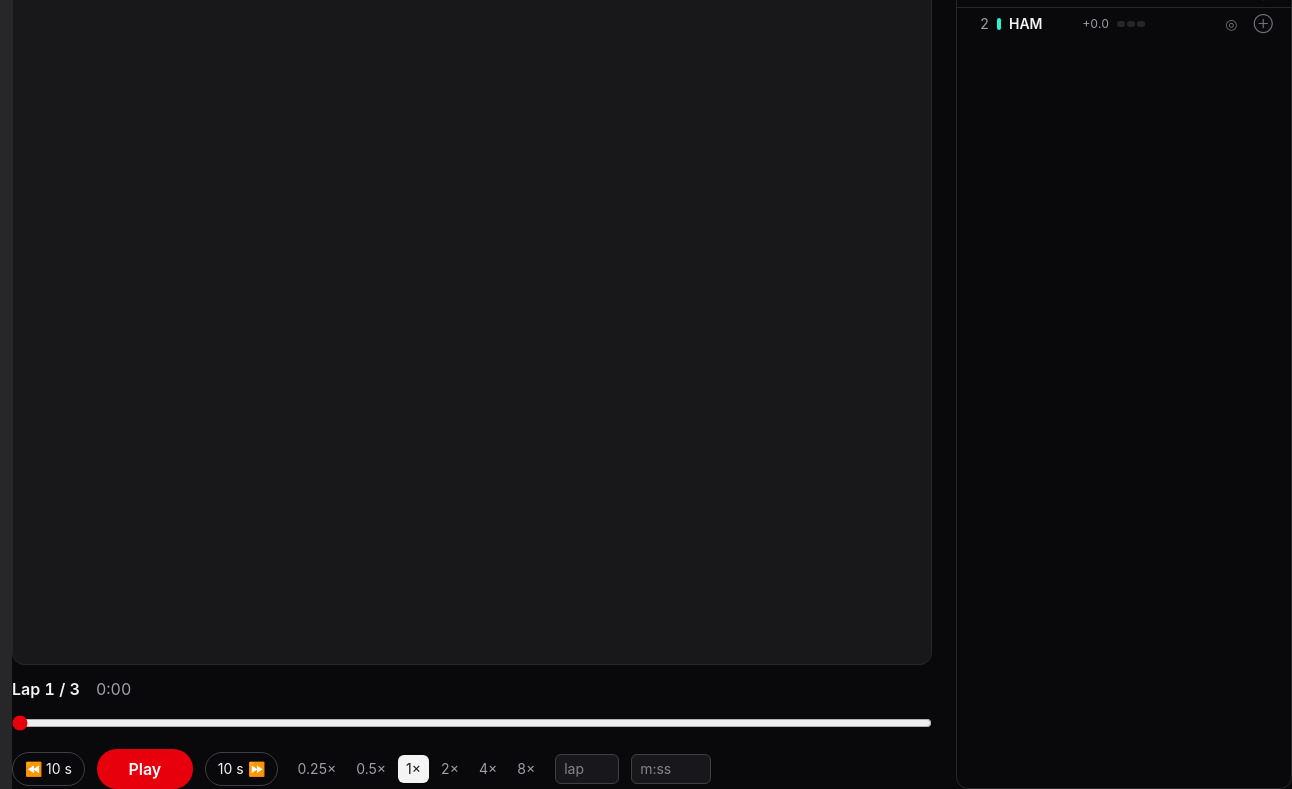
Test: the lap counter and the running order follow the race
(page scrolled)
Click the button "Play" at (145, 768), box top-left (97, 748), bottom-right (193, 788)
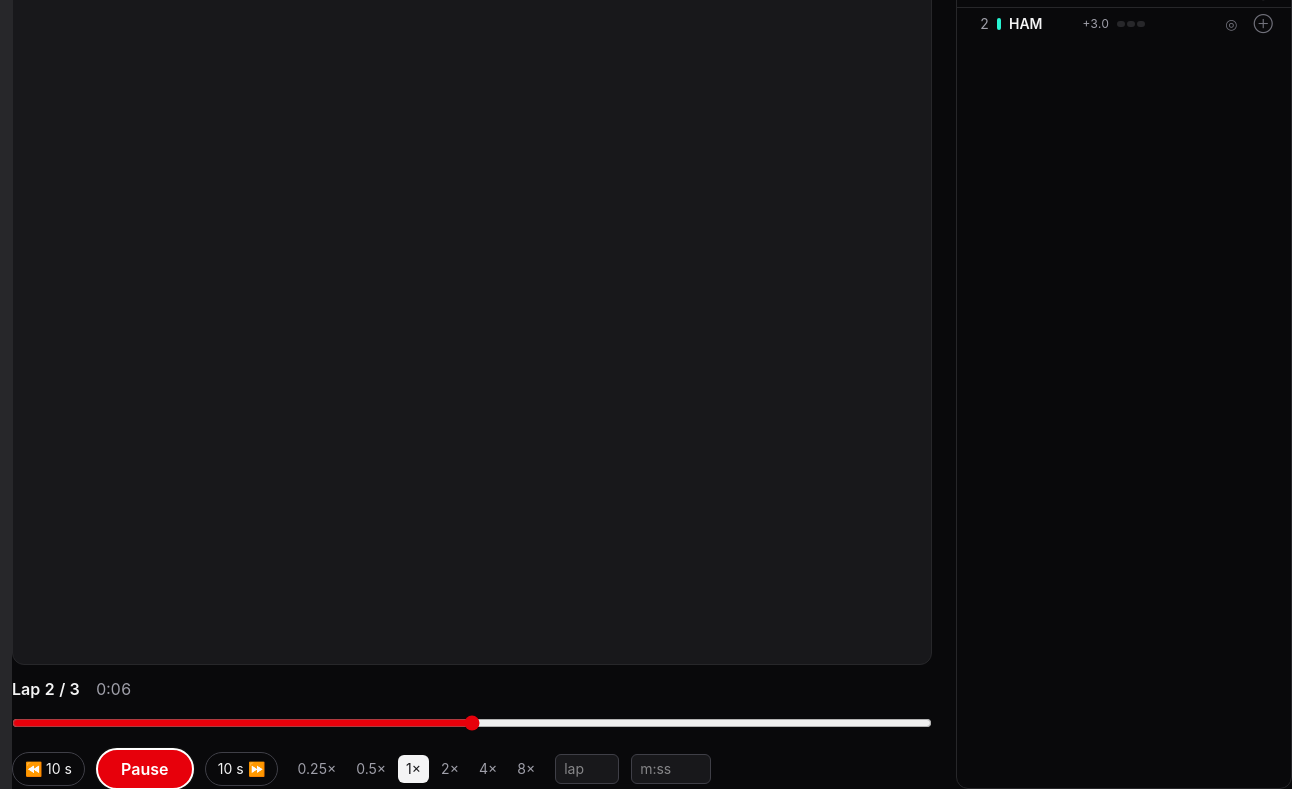
expect the text with test id "lap-counter" reads "Lap 2 / 3": met, box top-left (12, 676), bottom-right (80, 700)
expect the text with test id "race-time" reads "0:06": met, box top-left (96, 678), bottom-right (131, 698)
